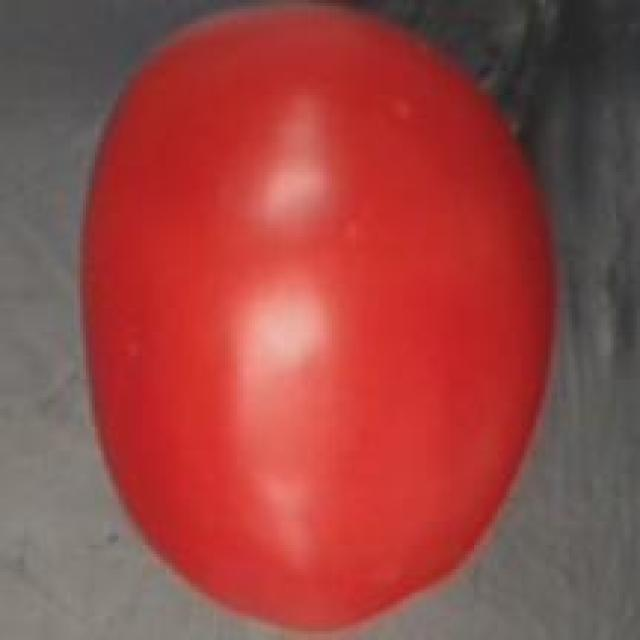ripe tomato: (65, 0, 569, 640)
